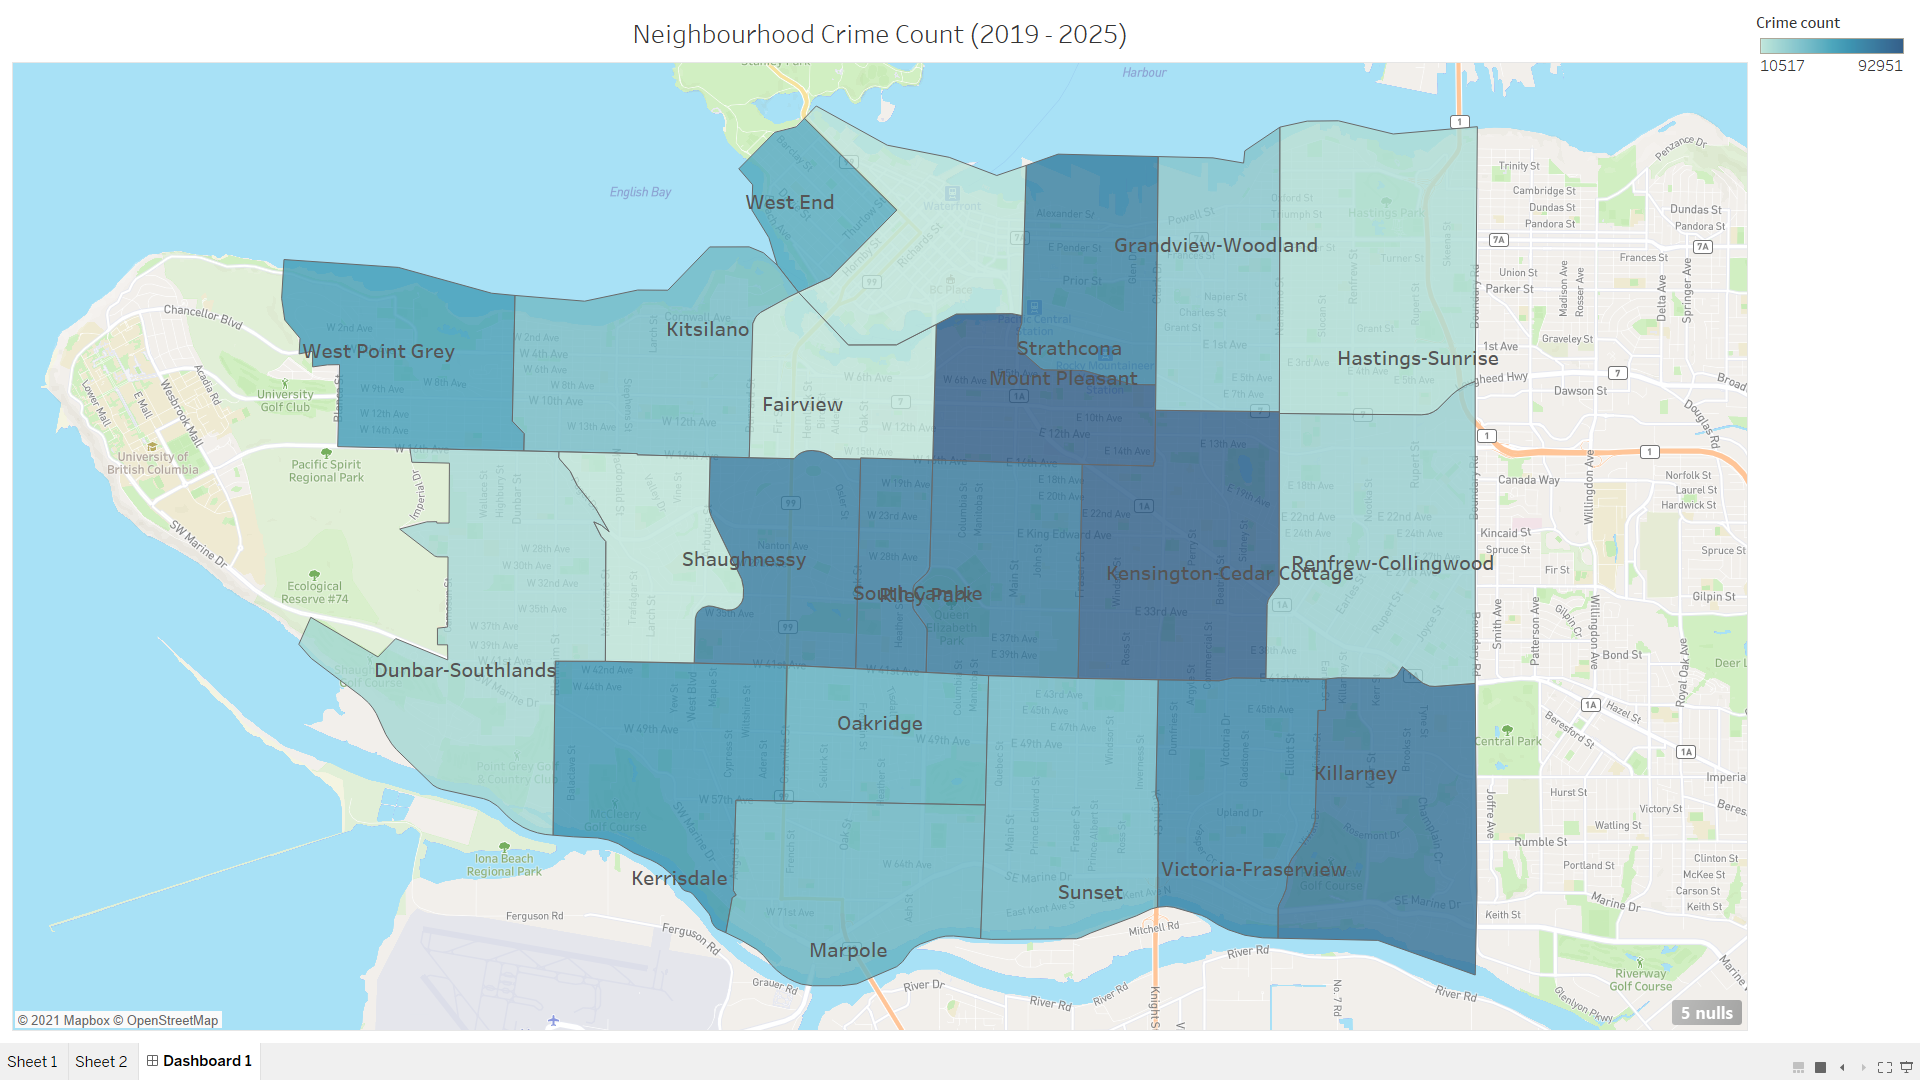

The page's visual inventory and layout, read from the dashboard file:
{"tool":"tableau","page":{"name":"Dashboard 1","canvas":[1000,1000],"units":"permille","ordinal":0},"visuals":[{"type":"worksheet","title":"Sheet 1","mark":"Automatic","box":[4.8,9.3,893.8,981.4]},{"type":"legend","title":"Sheet 1","param":"[federated.1s4b5z10wqg3g819w9l4s04un8us].[none:TYPE:nk]","box":[898.6,9.3,96.6,278.7]}]}

Visuals, with their boxes on the dashboard's canvas, which has no fixed pixel size, in thousandths of its width and height (x1, y1, x2, y2). These are canvas units, not pixel positions in the 1920x1080 screenshot, which may show the page scaled, cropped or inside an application window:
"Sheet 1" worksheet: x1=5, y1=9, x2=899, y2=991
"Sheet 1" legend: x1=899, y1=9, x2=995, y2=288
